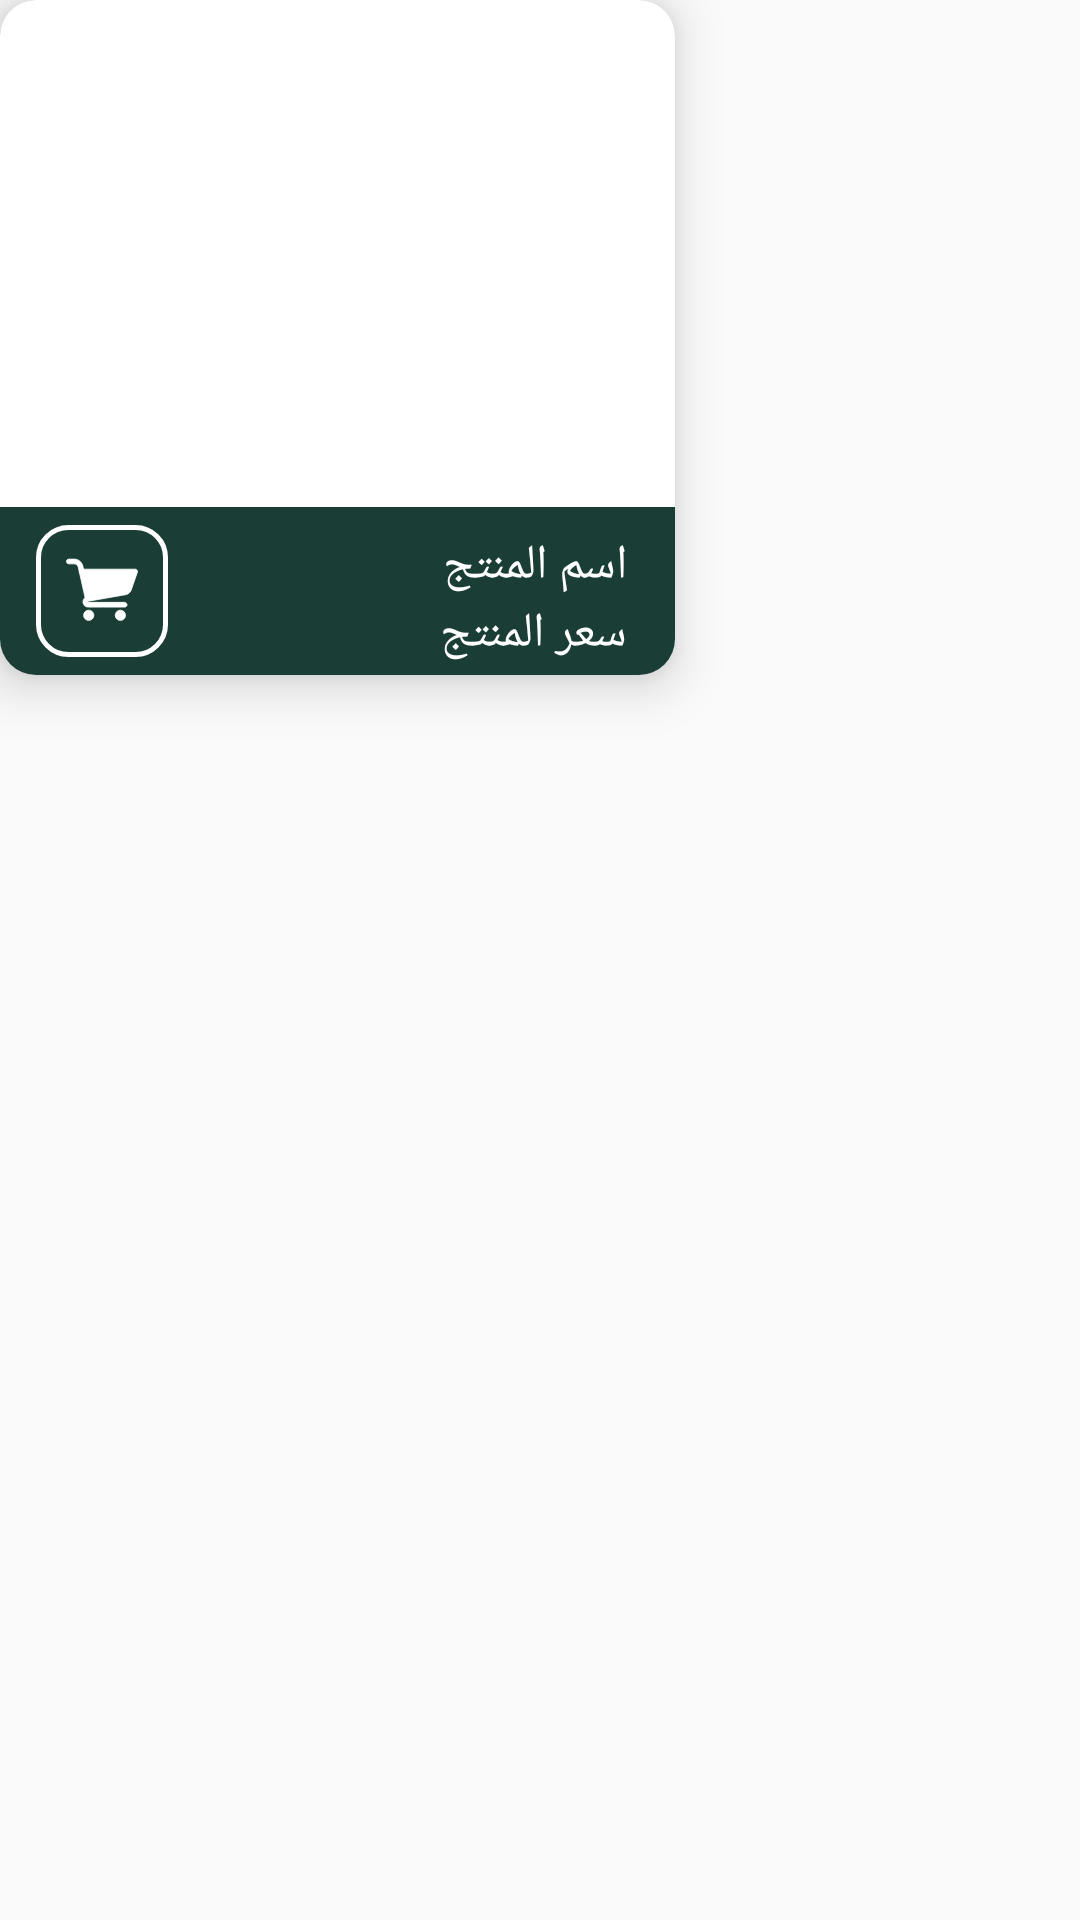

Named icons in this screenshot (1080*1920) and their centers, [x,y]:
shopping cart: [102,591]
